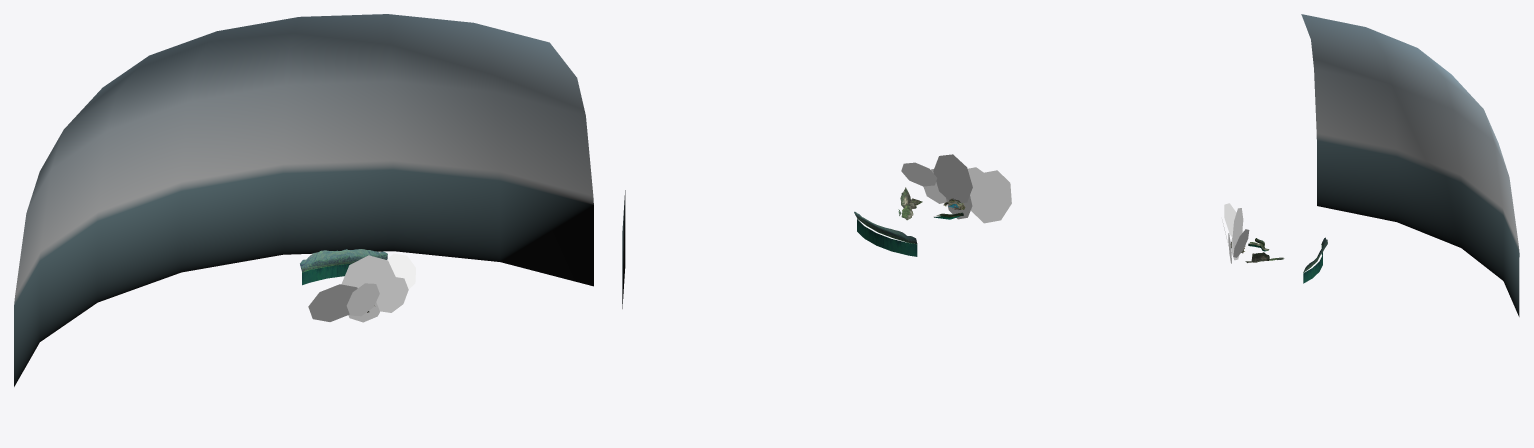
File: stage_m042.glb
3 renders of one model, left to right at view 1: azimuth 30°, elevation 25°; view 2: azimuth 150°, elevation 25°; view 3: azimuth 270°, elevation 25°, orthographic. The views are drawn at different scales.
Parts seen in each view (by area): view 1: g0p134, g1p23, g1p06, g1p05; view 2: g1p23, g1p05; view 3: g0p134, g1p23.
Boxes of the visible parts, box(x1,y1,x2,y2) form: g0p134: box(14, 14, 593, 386); g1p23: box(308, 253, 415, 322); g1p06: box(300, 249, 387, 272); g1p05: box(302, 264, 350, 285); g1p23: box(901, 154, 1011, 223); g1p05: box(857, 219, 917, 256); g0p134: box(1301, 14, 1519, 316); g1p23: box(1222, 203, 1249, 263).
Size of the model in its own units: 3972 by 1740 by 2194.
74 materials, 74 textured.
